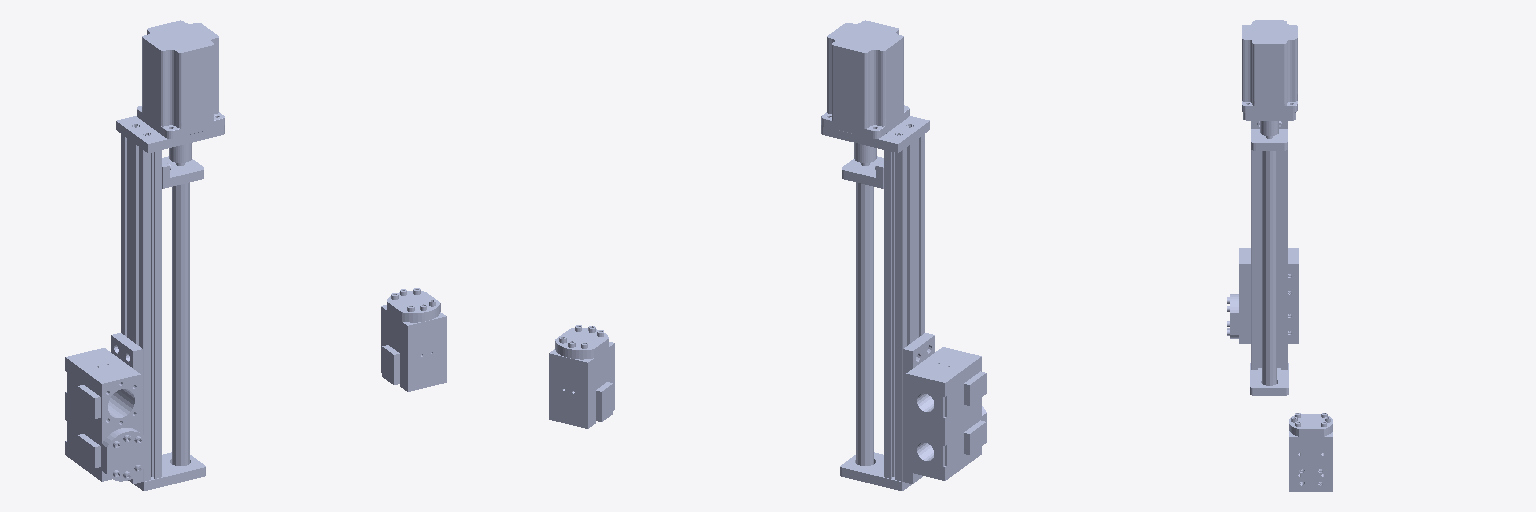
The robot description file, URDF, robot "cncweld":
<?xml version="1.0" encoding="utf-8"?>
<!--
This is the URDF model for the Self Built CNC Welding Mechanism for CNERC, HK PolyU.
15 July 2021, by [author].
Updated on 18 July 2021 to have all X, Y, and Z axes.
The Turn table is still needed to be put on and replace the tool0.
Updated on 19 July 2021, tool0 has been replaced with the Turn Table, Welding Torch, and Laser Scanner.
-->
<robot name="cncweld" xmlns:xacro="http://ros.org/wiki/xacro">

  <link name="world" />

<!--
  There are 2 rails for the base link. 
-->
  <link
    name="base_link">
    <visual>
      <origin
        xyz="0 0 0"
        rpy="0 0 0" />
      <geometry>
        <mesh
          filename="package://cnc_description/meshes/base_link.STL" />
      </geometry>
      <material
        name="">
        <color
          rgba="0.792156862745098 0.819607843137255 0.933333333333333 1" />
      </material>
    </visual>
    <collision>
      <origin
        xyz="0 0 0"
        rpy="0 0 0" />
      <geometry>
        <mesh
          filename="package://cnc_description/meshes/base_link.STL" />
      </geometry>
    </collision>
  </link>
<!--
  The World to base link Fixed Joint
-->
  <joint name="world_to_base_link" type="fixed">
    <parent link="world" />
    <child link="base_link" />
    <origin xyz="0.044 0.0 0.02" rpy="0.0 0.0 0.0" />
  </joint>

<!--
  The X link
-->
  <link
    name="X_link">
    <visual>
      <origin
        xyz="0.0 0.0 0.0"
        rpy="0 0 0" />
      <geometry>
        <mesh
          filename="package://cnc_description/meshes/X_link.STL" />
      </geometry>
      <material
        name="">
        <color
          rgba="0.792156862745098 0.819607843137255 0.933333333333333 1" />
      </material>
    </visual>
    <collision>
      <origin
        xyz="0.0 0.0 0.0"
        rpy="0 0 0" />
      <geometry>
        <mesh
          filename="package://cnc_description/meshes/X_link.STL" />
      </geometry>
    </collision>
  </link>

<!--
  The base link to X link Prismatic Joint
-->
  <joint
    name="base_link_X_link_joint"
    type="prismatic">
    <origin
      xyz="0.05 0.0 0.083" rpy="0.0 0.0 0.0" />
    <parent
      link="base_link" />
    <child
      link="X_link" />
    <axis  xyz="1 0 0"/>
    <limit effort="1000.0" lower="0.0" upper="1.0" velocity="0.05"/>
  </joint>

<!--
  The Z link
-->
  <link
    name="Z_link">
    <visual>
      <origin
        xyz="0.0 0.0 0.0"
        rpy="0 0 0" />
      <geometry>
        <mesh
          filename="package://cnc_description/meshes/Z_axis_assy.STL" />
      </geometry>
      <material
        name="">
        <color
          rgba="0.792156862745098 0.819607843137255 0.933333333333333 1" />
      </material>
    </visual>
    <collision>
      <origin
        xyz="0.0 0.0 0.0"
        rpy="0 0 0" />
      <geometry>
        <mesh
          filename="package://cnc_description/meshes/Z_axis_assy.STL" />
      </geometry>
    </collision>
  </link>

<!--
  The X link to Z link Prismatic Joint
-->
  <joint
    name="X_link_Z_link_joint"
    type="prismatic">
    <origin
      xyz="0.0 0.0 0.0" rpy="0.0 0.0 0.0" />
    <parent
      link="X_link" />
    <child
      link="Z_link" />
    <limit effort="1000.0" lower="0.0" upper="0.21" velocity="0.05"/>
    <axis  xyz="0 1 0"/>
  </joint>

<!--
  The Slide link on the Z link.
  Usually the last link is the tool0 and the End Effector will be
  fixed on it.
-->
  <link
    name="tool0">
    <visual>
      <origin
        xyz="0.0 0.0 0.0"
        rpy="0 0 0" />
      <geometry>
        <mesh
          filename="package://cnc_description/meshes/tool0.STL" />
      </geometry>
      <material
        name="">
        <color
          rgba="0.792156862745098 0.819607843137255 0.933333333333333 1" />
      </material>
    </visual>
    <collision>
      <origin
        xyz="0.0 0.0 0.0"
        rpy="0 0 0" />
      <geometry>
        <mesh
          filename="package://cnc_description/meshes/tool0.STL" />
      </geometry>
    </collision>
  </link>

<!--
  The Z link to tool0 Prismatic Joint
-->
  <joint
    name="Z_link_tool0_joint"
    type="prismatic">
<!--
    <origin xyz="0.045 0.0 0.0" rpy="0.0 0.0 0.0" />
-->
    <origin xyz="0.31 0.046 0.0" rpy="0.0 0.0 0.0" />
    <parent
      link="Z_link" />
    <child
      link="tool0" />
    <limit effort="1000.0" lower="0.0" upper="0.086" velocity="0.05"/>
    <axis  xyz="0 0 1"/>
  </joint>

</robot>

--- Render facts (derived) ---
The picture shows the robot from 3 angles, left to right: view 1: azimuth 30°, elevation 25°; view 2: azimuth 150°, elevation 25°; view 3: azimuth 270°, elevation 25°; orthographic projection.
Robot: cncweld — 5 links, 4 joints (3 prismatic, 1 fixed); root link world; default pose: every joint at zero.
Links seen in each view (by area): view 1: Z_link, tool0; view 2: Z_link, tool0; view 3: Z_link, tool0.
Link boxes in pixels (x1,y1,x2,y2): Z_link: (65,20,224,490); tool0: (381,288,446,391); Z_link: (821,20,986,490); tool0: (549,325,614,428); Z_link: (1227,20,1298,395); tool0: (1289,413,1332,491).
Size in the robot's own frame: 0.3906 by 0.1153 by 0.425 metres.
2 mesh visuals loaded from 4 distinct referenced files (2 binary STL); not drawn: 2 (reference not matched to a file when rendering).